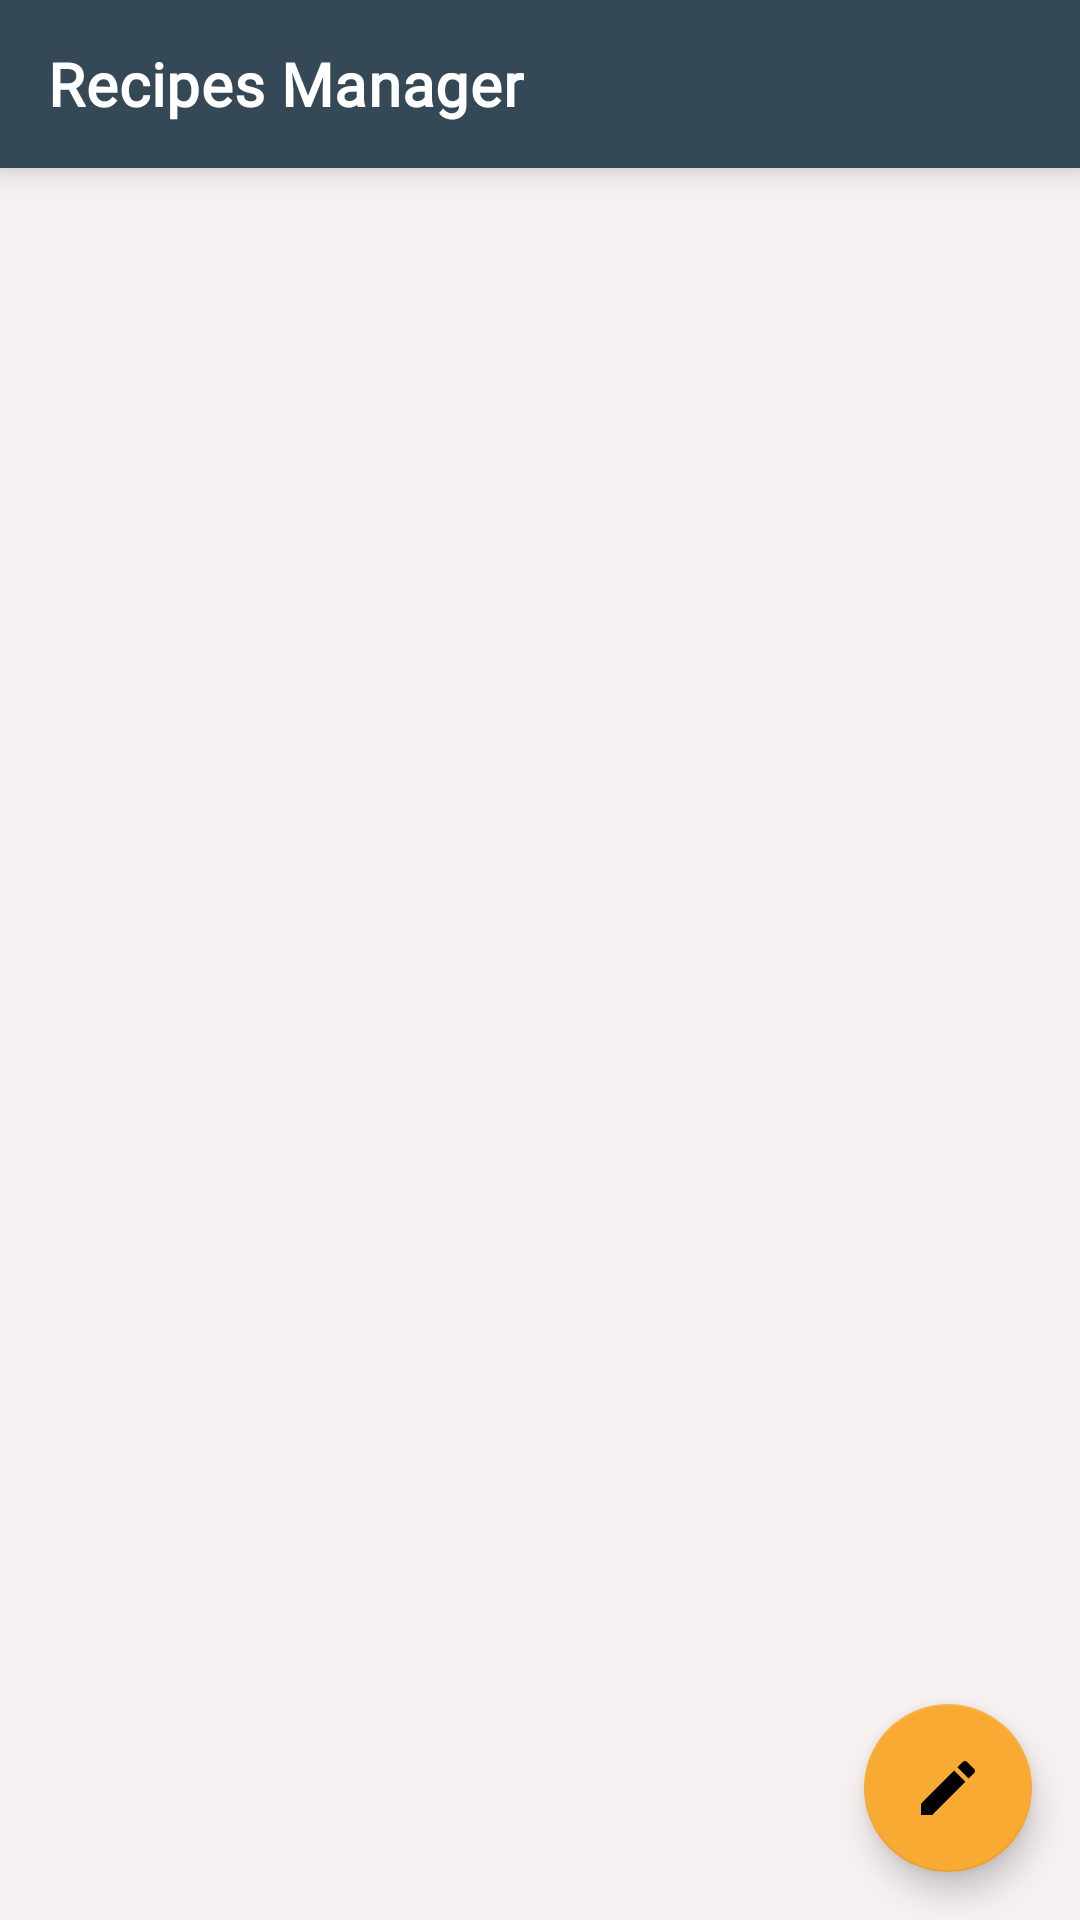

Named icons in this screenshot (1080 × 1920) and their bounding boxes, region(x1, y1, x2, y2):
edit: region(864, 1704, 1032, 1872)
